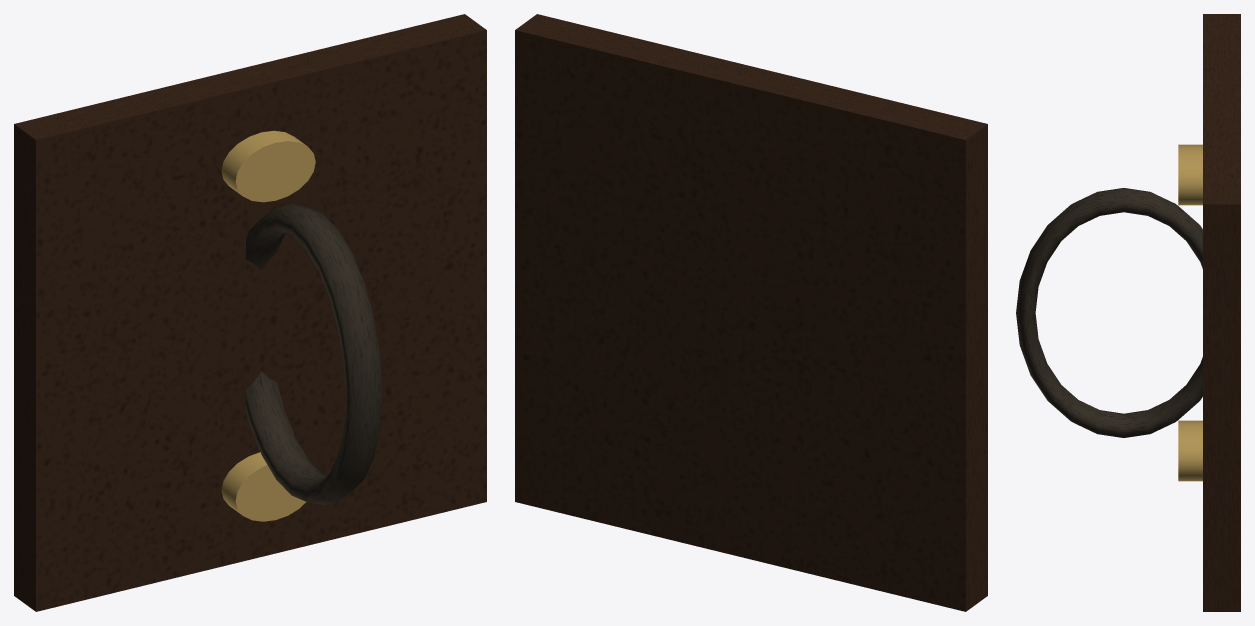
3 renders of one model, left to right at view 1: azimuth 30°, elevation 25°; view 2: azimuth 150°, elevation 25°; view 3: azimuth 270°, elevation 25°, orthographic. The views are drawn at different scales.
Parts seen in each view (by area): view 1: c-oldhook; view 2: c-oldhook; view 3: c-oldhook.
Part boxes in pixels (x1,y1,x2,y2): c-oldhook: (14,14,486,611); c-oldhook: (515,14,987,611); c-oldhook: (1016,14,1240,611).
Bounding box in the file's own units: 0.26 × 0.26 × 0.13.
3 materials, 2 textured.
